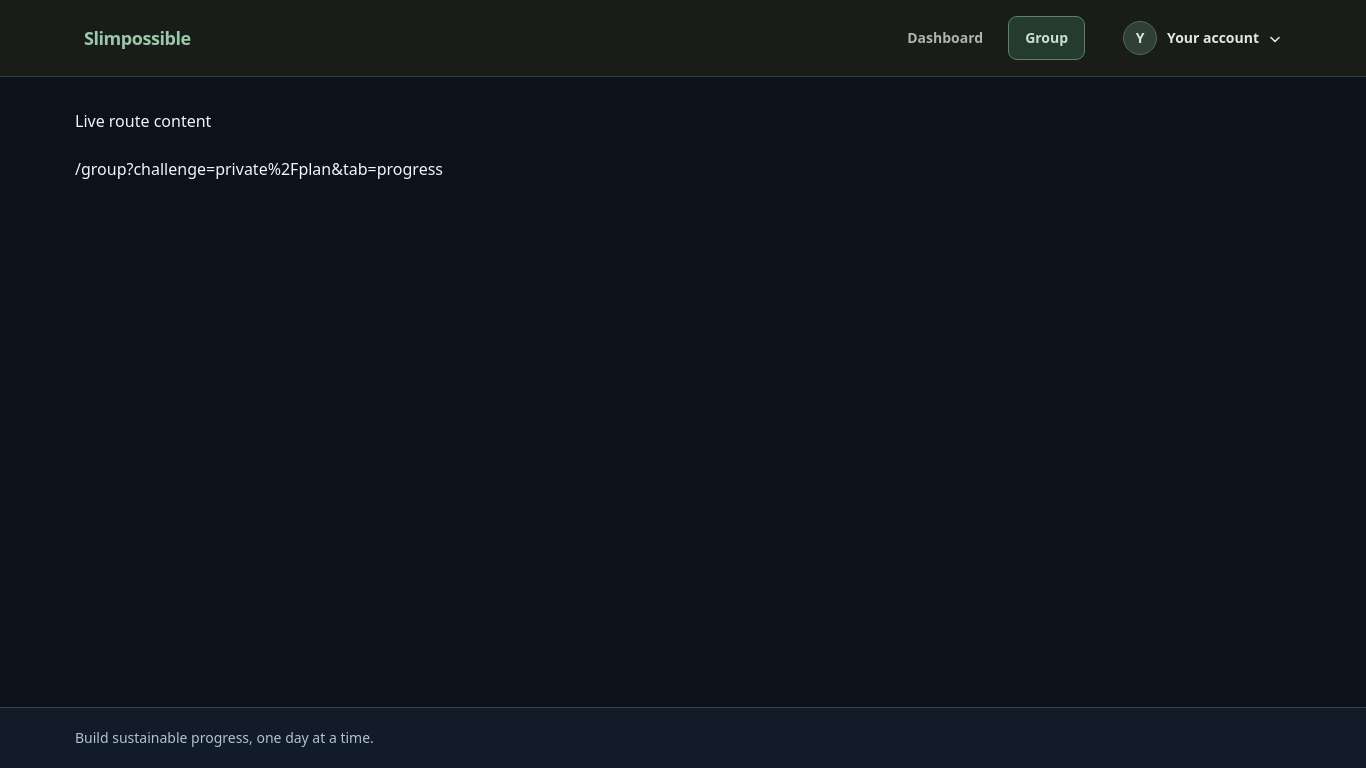
it: AppLayout › the signed-in logo opens its canonical home without challenge parameters
Click the link "Slimpossible" at (137, 38), box 84,26 -> 191,50
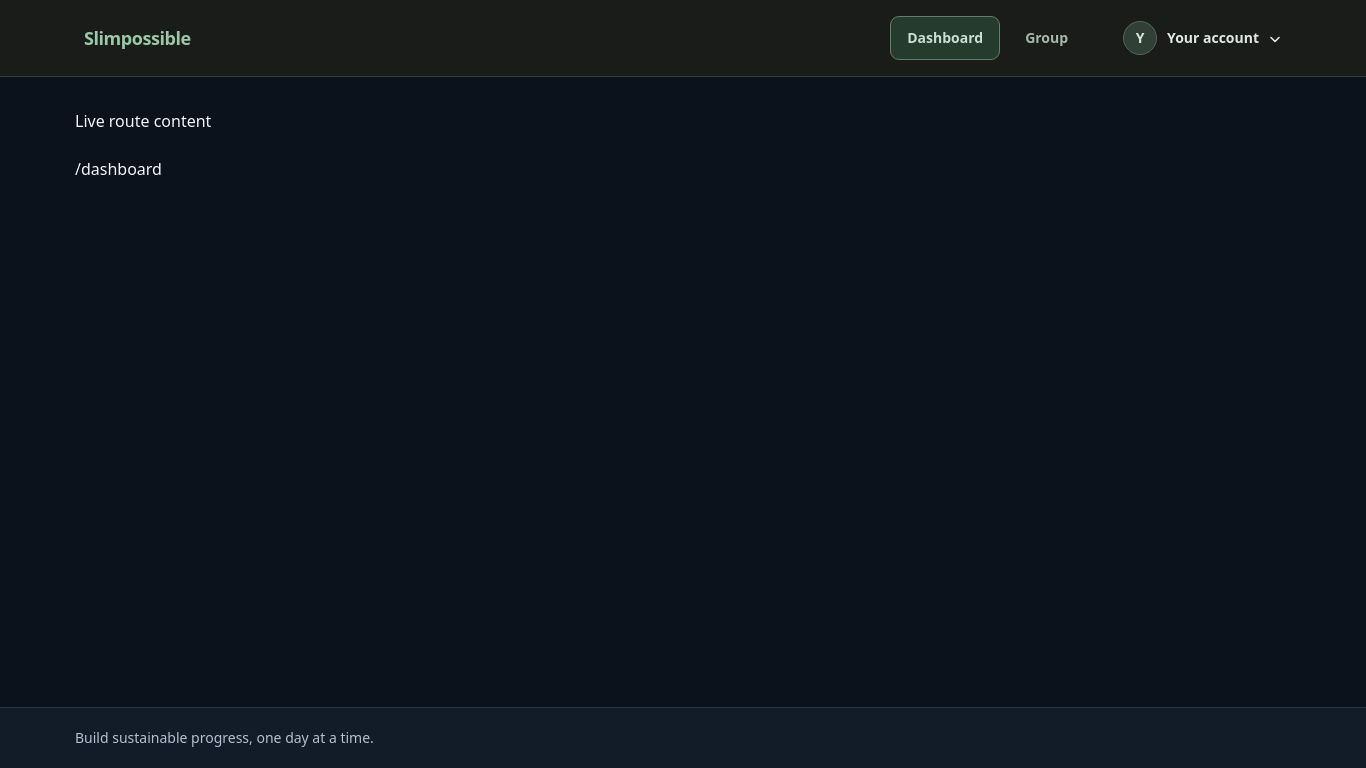
Check: the text with test id "current-route" reads "/dashboard", box 75,158 -> 162,180
